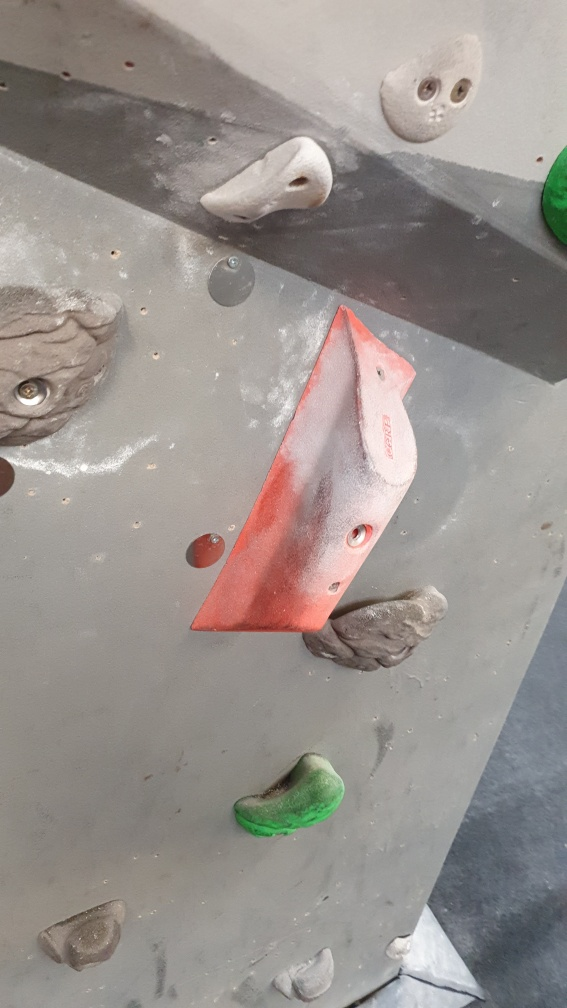Hand Start: (206, 255, 259, 310), (180, 529, 229, 571), (1, 456, 24, 503)
Jug: (1, 283, 130, 448), (290, 581, 450, 671), (227, 747, 353, 841), (271, 946, 338, 1003)
Pinch: (179, 305, 421, 643)
